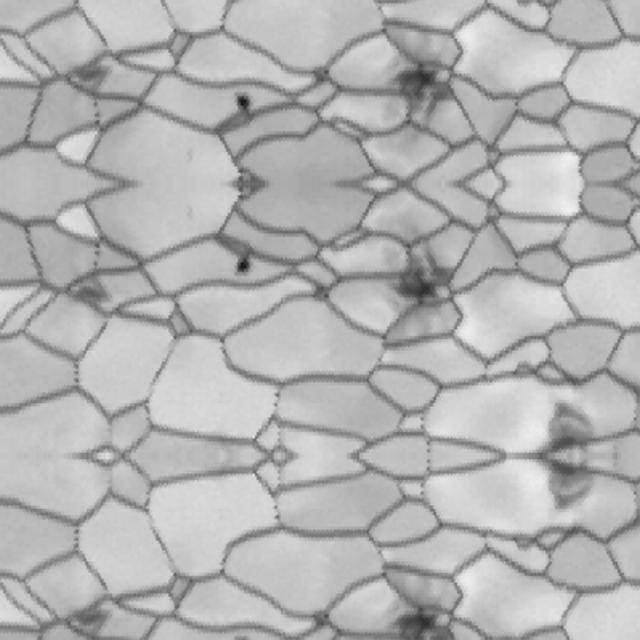good_void: (366, 238, 458, 346), (366, 23, 458, 131), (366, 568, 458, 640), (539, 401, 592, 453), (539, 461, 592, 513), (68, 273, 112, 314), (68, 600, 112, 640), (68, 55, 112, 95), (232, 250, 257, 285), (232, 84, 257, 118), (236, 629, 255, 640), (92, 110, 102, 118), (92, 260, 100, 269), (92, 251, 102, 258), (92, 100, 100, 108), (94, 245, 103, 251), (94, 118, 103, 124)
